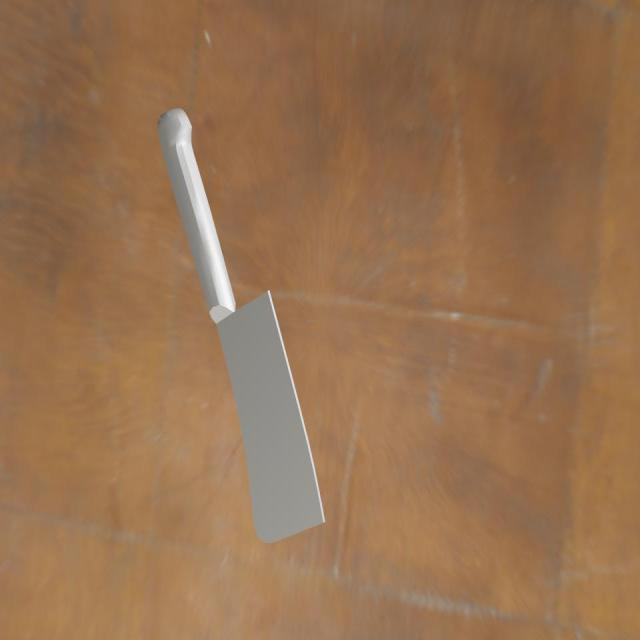knife: (150, 99, 232, 324)
